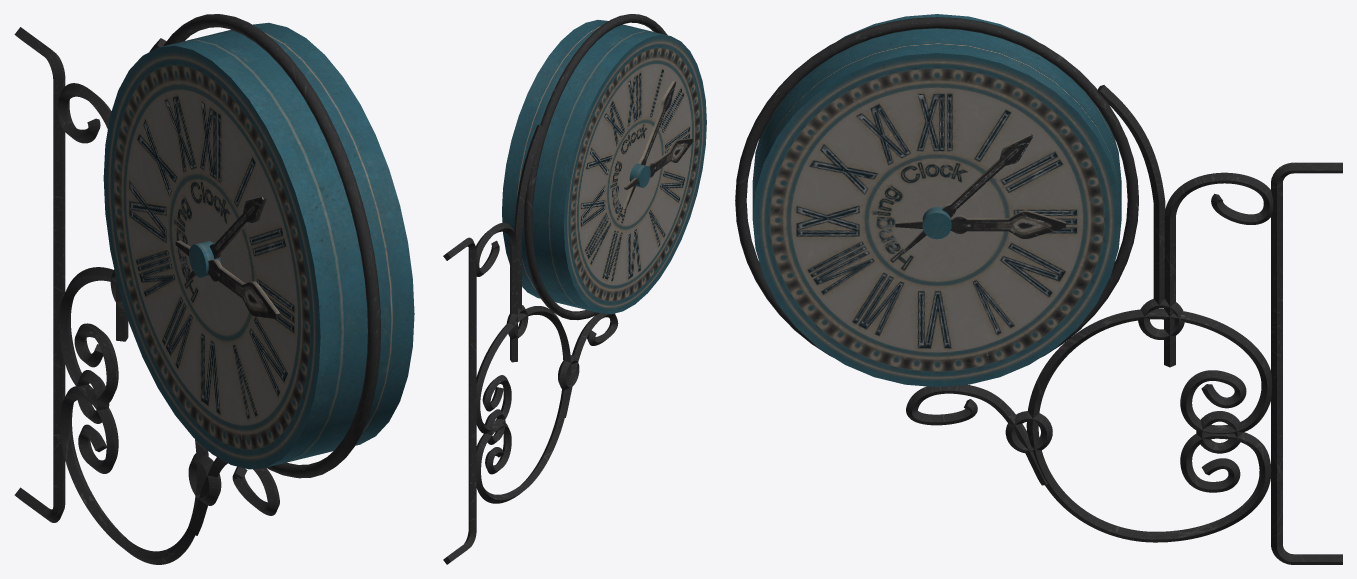
Rendered from SM_Clock.FBX.
3 views of the same model, side by side, from view 1: azimuth 30°, elevation 25°; view 2: azimuth 150°, elevation 25°; view 3: azimuth 270°, elevation 25° (orthographic). The views are drawn at different scales.
Parts seen in each view (by area): view 1: SM_Clock; view 2: SM_Clock; view 3: SM_Clock.
Part boxes in pixels (x1=…): SM_Clock: x1=14, y1=14, x2=414, y2=564; SM_Clock: x1=443, y1=14, x2=706, y2=564; SM_Clock: x1=735, y1=14, x2=1342, y2=564.
Size of the model in its own units: 131 by 659 by 655.
